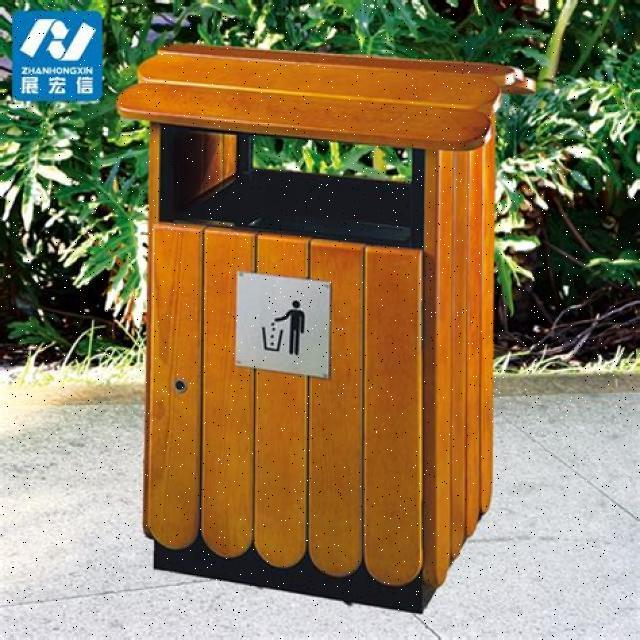garbage container: (112, 31, 523, 606)
